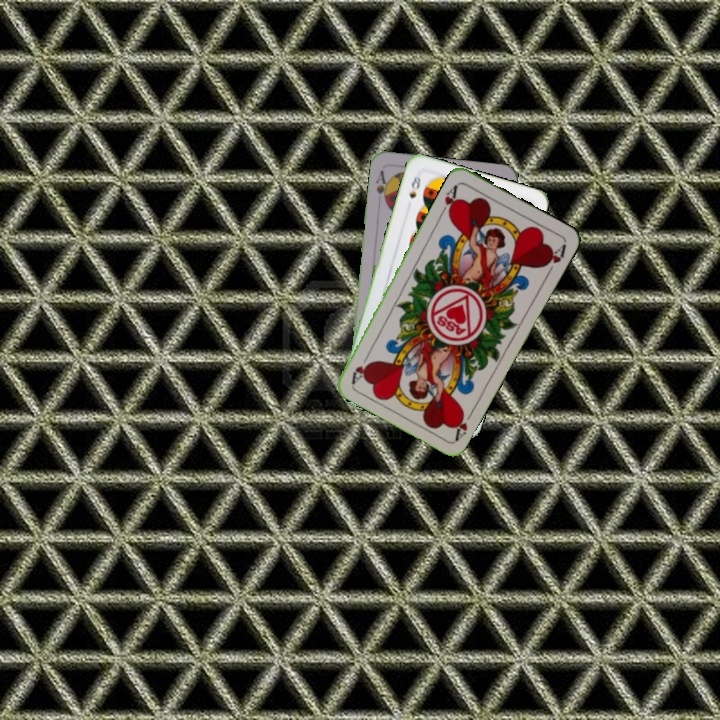HA: (450, 405, 477, 443), (436, 181, 461, 219)
S8: (405, 172, 423, 201)
SA: (371, 166, 391, 206)
